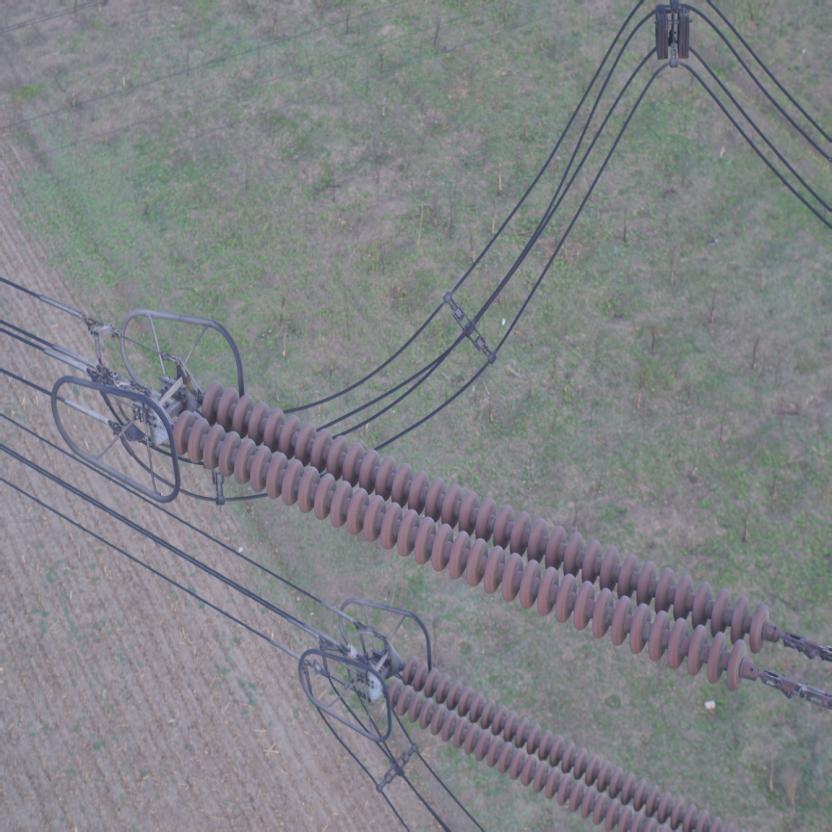insulator: (156, 376, 831, 702), (372, 655, 731, 831)
